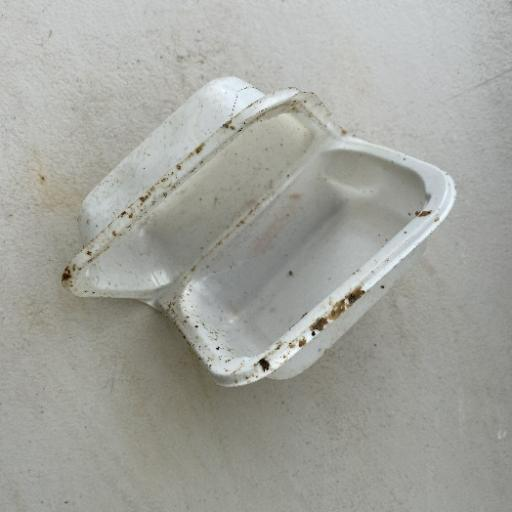Plastic: (59, 74, 458, 390)
